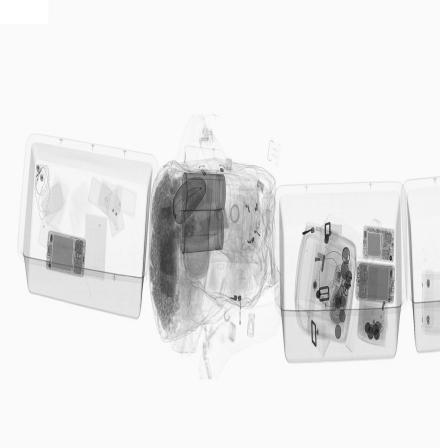Lighter: (338, 281, 345, 306)
